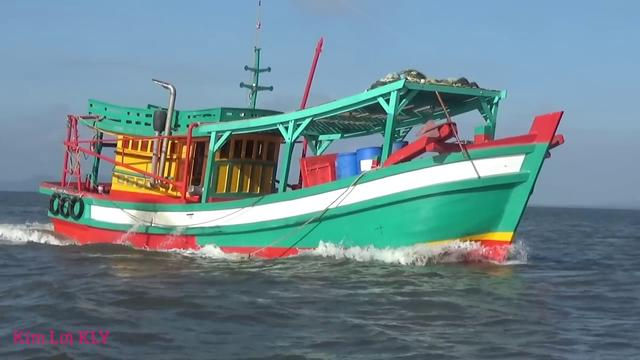Ship: (37, 73, 570, 267)
